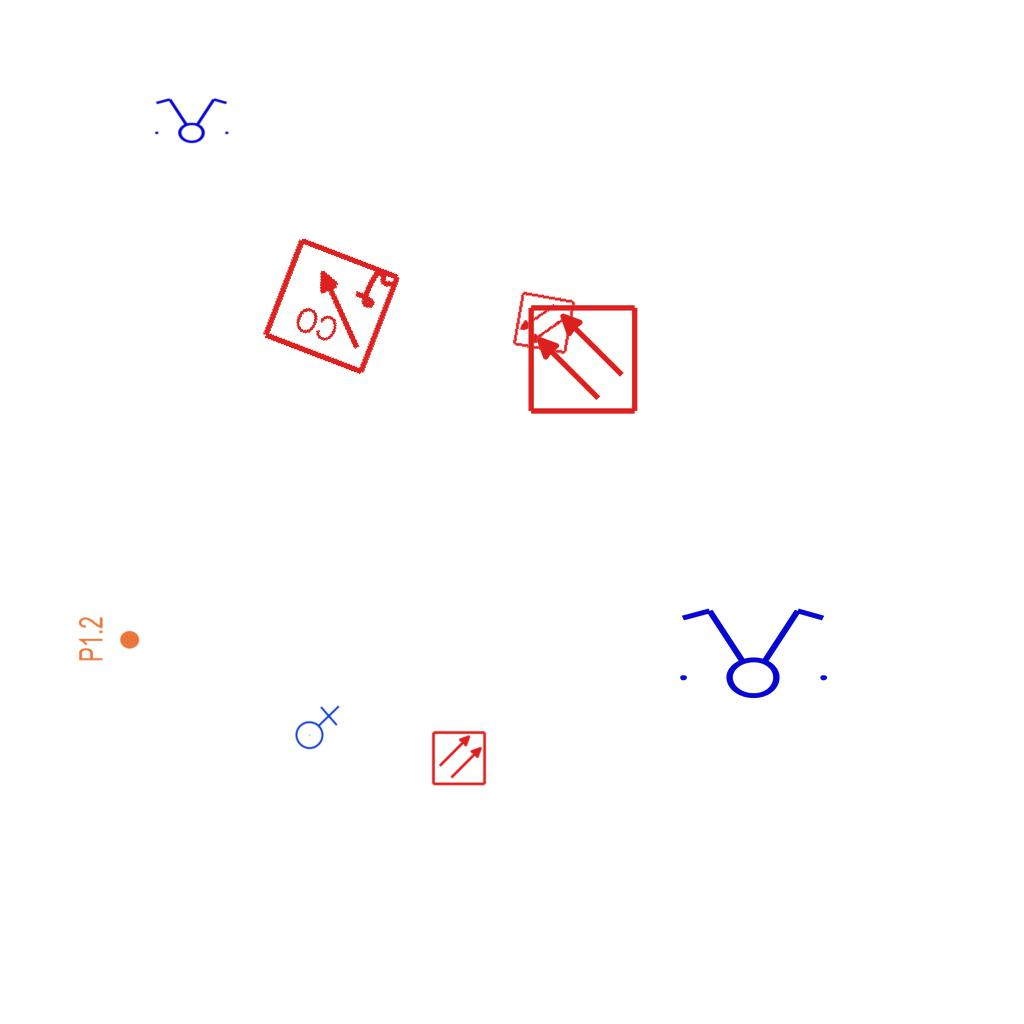Downlight_LED_Einbauleuchten_Flur: (77, 616, 141, 662)
Elektroanschluss_allgemein_230V_Geraeteanschlussdose_230V: (291, 703, 340, 750)
RMO_Rauchmelder_optischer: (526, 303, 639, 416), (511, 290, 577, 356), (431, 730, 487, 786)
ROA_Rauchmelder_optisch_mit_Signalgeber_(Sockelsirene): (258, 231, 405, 378)
Serienschalter: (668, 604, 836, 700), (149, 96, 233, 144)
